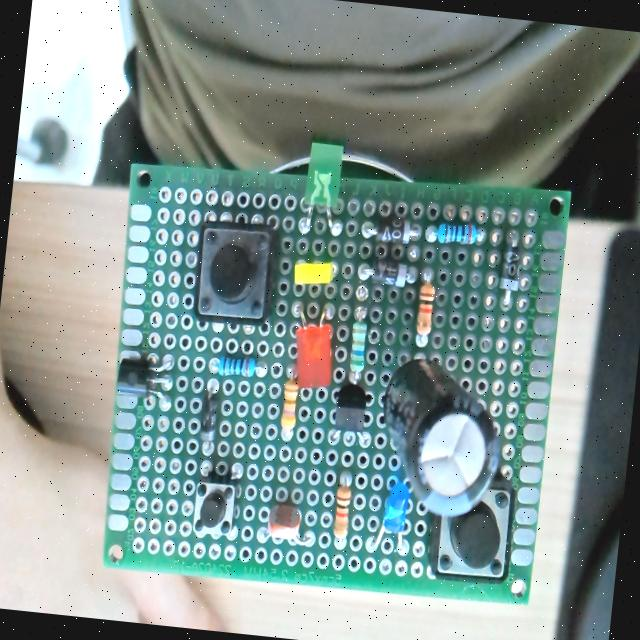Electrolytic capacitor: (368, 351, 512, 522)
cds: (260, 494, 316, 548)
diode: (492, 218, 532, 322), (361, 259, 413, 289), (370, 216, 420, 243), (198, 390, 219, 445)
led: (287, 304, 338, 394), (299, 142, 347, 236), (373, 476, 414, 555), (290, 257, 336, 289)
resistor: (344, 298, 376, 386), (424, 217, 485, 246), (209, 352, 260, 380), (414, 280, 436, 340), (280, 372, 300, 436), (331, 482, 352, 540)
switch: (423, 471, 520, 592), (190, 220, 278, 327), (191, 473, 238, 538)
transistor: (325, 384, 377, 451), (114, 353, 174, 404)
